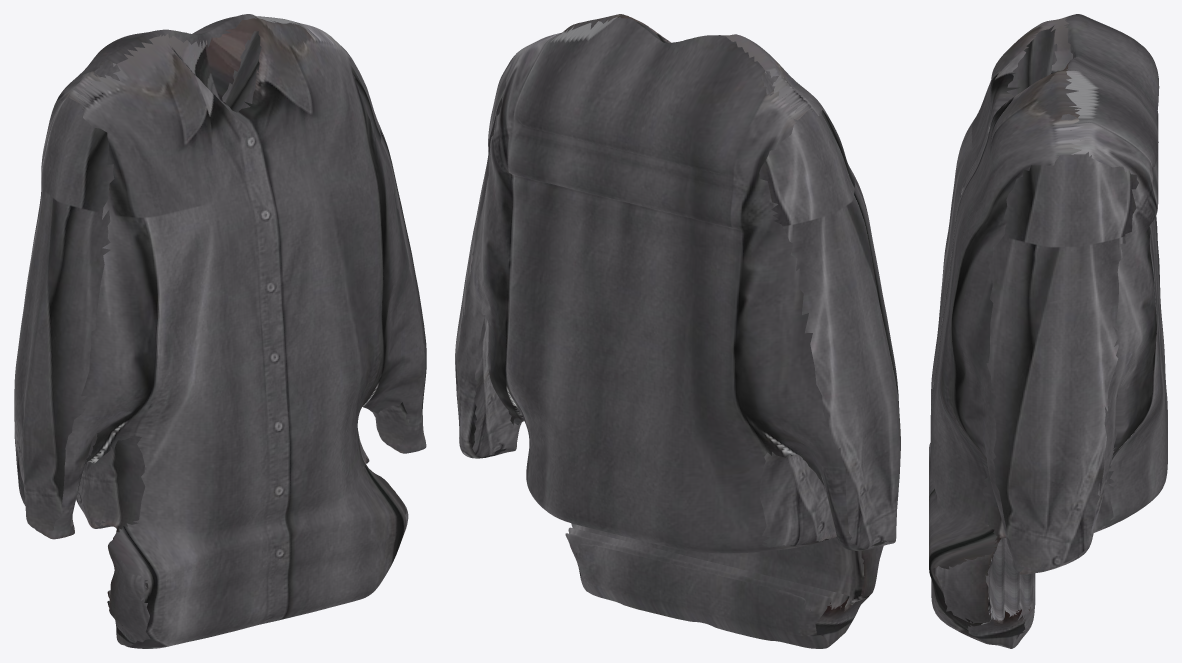
File: NF014-photo-v4.glb
The picture shows the model from 3 angles, left to right: view 1: azimuth 30°, elevation 25°; view 2: azimuth 150°, elevation 25°; view 3: azimuth 270°, elevation 25°; orthographic projection. The views are drawn at different scales.
Parts seen in each view (by area): view 1: NF014_worn_photo_fitted; view 2: NF014_worn_photo_fitted; view 3: NF014_worn_photo_fitted.
Part boxes in pixels (x1,y1,x2,y2): NF014_worn_photo_fitted: (14,14,426,648); NF014_worn_photo_fitted: (455,14,900,648); NF014_worn_photo_fitted: (929,14,1167,648).
Bounding box in the file's own units: 0.5622 × 0.7745 × 0.2993.
Materials: 3 (3 with a texture image).
